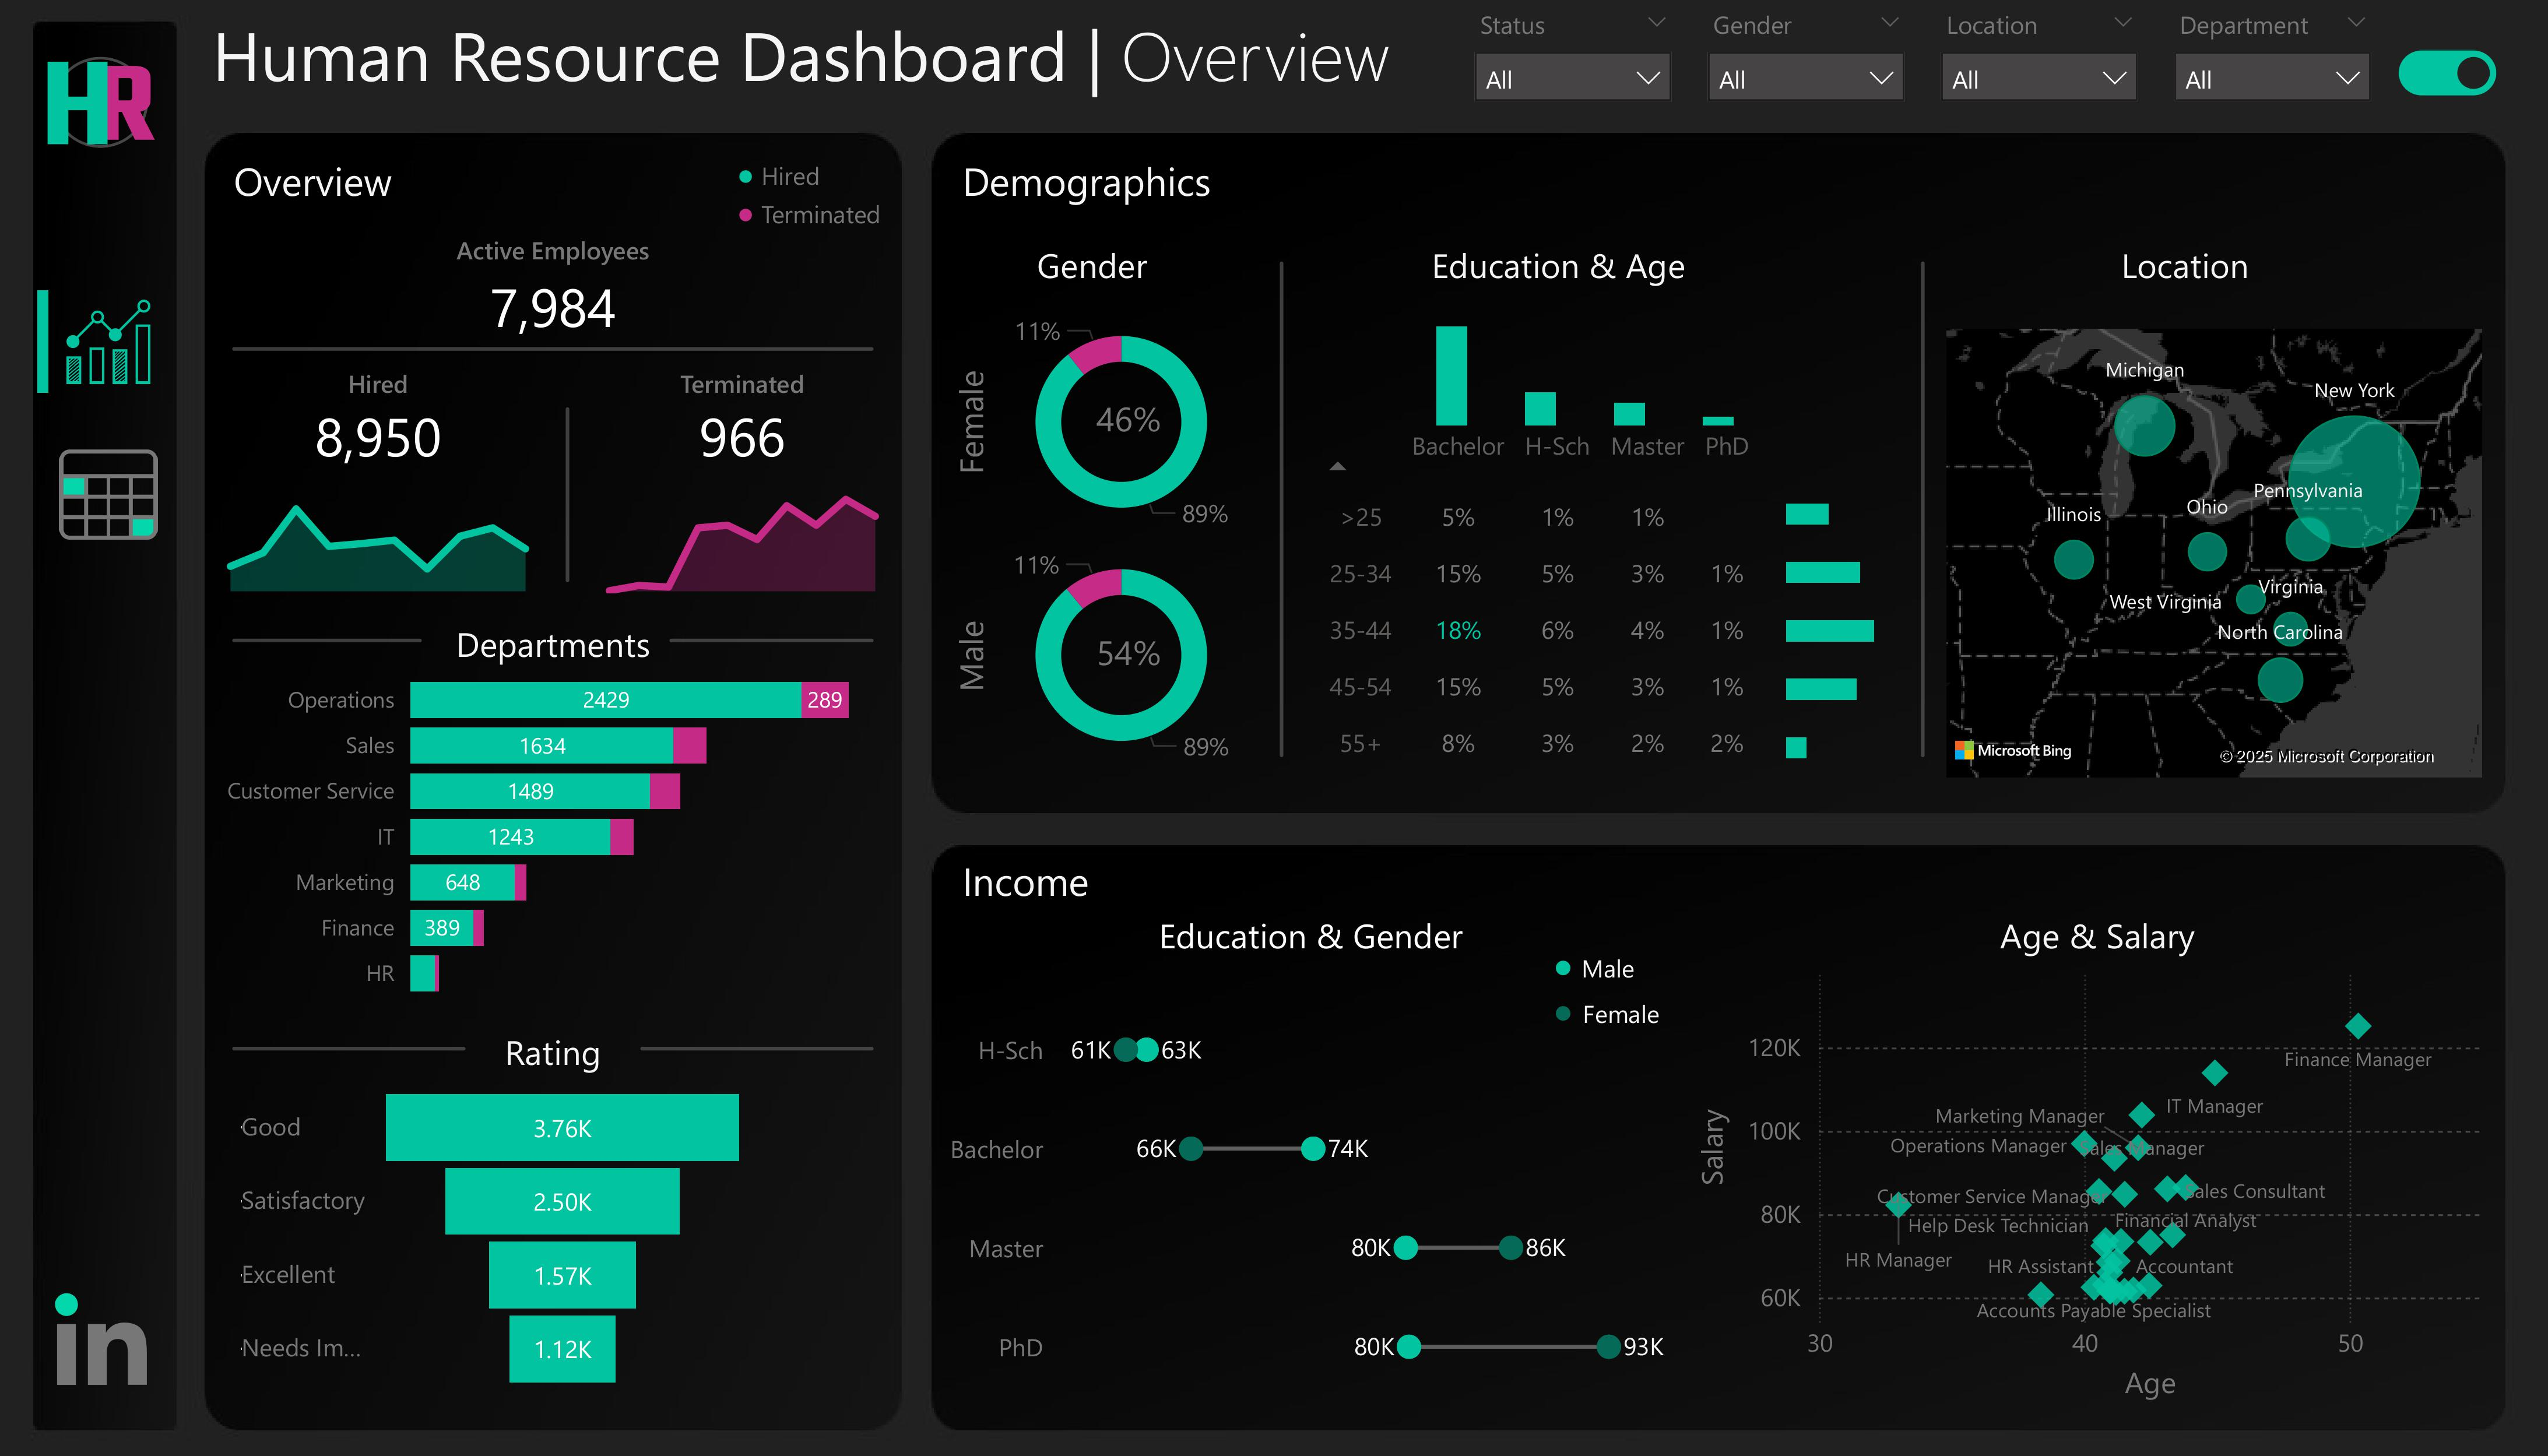

What the dashboard file says about the page in this screenshot:
{"tool":"powerbi","page":{"name":"Dashboard","canvas":[1400,800],"ordinal":0},"visuals":[{"type":"textbox","box":[112,0,752,64],"z":0,"group":"g1"},{"type":"image","title":"Filter Off","box":[1312,0,64,80],"z":0,"group":"g8"},{"type":"cardVisual","title":"Active","fields":{"Data":["Measure Table.Active Employees"]},"box":[144,112,320,80],"z":0,"group":"g3"},{"type":"shape","box":[688,144,32,272],"z":0,"group":"g2"},{"type":"columnChart","fields":{"Category":["HumanResources.Education Level"],"Y":["Measure Table.Hired"]},"box":[784,160,176,80],"z":0,"group":"g6"},{"type":"map","fields":{"Size":["Measure Table.Hired"],"Category":["HumanResources.State","HumanResources.City"]},"box":[1064,176,304,256],"z":0,"group":"g4"},{"type":"card","fields":{"Values":["Labels.Male percentage"]},"box":[568,320,104,80],"z":0,"group":"g5"},{"type":"shape","box":[16,160,16,56],"z":250,"group":"g7"},{"type":"image","title":"Dashboard active","box":[32,160,56,56],"z":500,"group":"g7"},{"type":"group","id":"g1","title":"Text","box":[112,0,1232,608],"z":1000},{"type":"textbox","box":[544,128,112,48],"z":1000,"group":"g1"},{"type":"shape","box":[128,160,352,64],"z":1000,"group":"g2"},{"type":"lineChart","title":"Hired","fields":{"Y":["Mesure Table.Hired"],"Category":["HumanResources.Hiredate.Variation.Date Hierarchy.Year"]},"box":[112,192,192,144],"z":1000,"group":"g3"},{"type":"card","fields":{"Values":["Labels.Female percentage"]},"box":[568,192,104,80],"z":1000,"group":"g5"},{"type":"clusteredBarChart","fields":{"Y":["Measure Table.Hired"],"Category":["HumanResources.Age Category"]},"box":[976,256,64,176],"z":1000,"group":"g6"},{"type":"textbox","box":[512,80,208,48],"z":2000,"group":"g1"},{"type":"group","id":"g2","title":"Dividers","box":[128,144,944,448],"z":2000},{"type":"donutChart","fields":{"Category":["HumanResources.Status"],"Y":["Measure Table.Hired male"]},"box":[528,160,176,144],"z":2000,"group":"g5"},{"type":"lineChart","title":"Terminated","fields":{"Y":["Measure Table.Terminated"],"Category":["HumanResources.Termdate.Variation.Date Hierarchy.Year"]},"box":[320,192,176,144],"z":2000,"group":"g3"},{"type":"shape","box":[272,224,80,96],"z":2000,"group":"g2"},{"type":"pivotTable","fields":{"Rows":["HumanResources.Age Category"],"Columns":["HumanResources.Education Level"],"Values":["Measure Table.Circle Unicode"]},"box":[720,224,256,224],"z":2000,"group":"g6"},{"type":"textbox","title":"Filters Text","box":[1216,16,96,48],"z":3000,"group":"g8"},{"type":"textbox","box":[112,80,144,48],"z":3000,"group":"g1"},{"type":"group","id":"g3","title":"KPIS","box":[112,112,384,224],"z":3000},{"type":"shape","box":[1040,144,32,272],"z":3000,"group":"g2"},{"type":"donutChart","fields":{"Y":["Measure Table.Hired female"],"Category":["HumanResources.Status"]},"box":[528,288,176,144],"z":3000,"group":"g5"},{"type":"group","id":"g4","title":"Map","box":[1064,160,336,288],"z":4000},{"type":"shape","box":[128,336,104,32],"z":4000,"group":"g2"},{"type":"textbox","box":[512,464,144,48],"z":4000,"group":"g1"},{"type":"group","id":"g5","title":"Donuts","box":[528,160,176,272],"z":5000},{"type":"shape","box":[368,336,112,32],"z":5000,"group":"g2"},{"type":"textbox","box":[240,560,128,48],"z":5000,"group":"g1"},{"type":"textbox","box":[768,128,176,48],"z":6000,"group":"g1"},{"type":"group","id":"g6","title":"Matrix","box":[720,160,320,288],"z":6000},{"type":"shape","box":[128,560,128,32],"z":6000,"group":"g2"},{"type":"textbox","box":[1056,128,288,48],"z":7000,"group":"g1"},{"type":"group","id":"g7","title":"Dashboard Icons","box":[16,160,72,56],"z":7000},{"type":"shape","box":[352,560,128,32],"z":7000,"group":"g2"},{"type":"group","id":"g8","title":"HR_FIlters","box":[800,0,576,80],"z":8000},{"type":"textbox","box":[208,336,192,48],"z":8000,"group":"g1"},{"type":"textbox","title":"Overview","box":[400,80,160,64],"z":9000,"group":"g1"},{"type":"barChart","title":"Dept bar","fields":{"Category":["HumanResources.Department","HumanResources.Job Title"],"Y":["Measure Table.Hired"],"Series":["HumanResources.Status"]},"box":[112,352,384,208],"z":9000},{"type":"scatterChart","title":"Age & Salary","fields":{"Category":["HumanResources.Job Title"],"X":["Measure Table.AVG age"],"Y":["Measure Table.AVG Salary"]},"box":[928,496,448,288],"z":10000},{"type":"textbox","title":"Gender text","box":[848,512,96,64],"z":11000},{"type":"funnel","fields":{"Category":["HumanResources.Performance Rating"],"Y":["Measure Table.Hired"]},"box":[128,592,288,176],"z":12000},{"type":"image","title":"LOGO","box":[16,16,80,80],"z":13000},{"type":"image","title":"Records LOGO","box":[16,240,88,64],"z":14000},{"type":"image","title":"LinkedIN","box":[16,704,80,64],"z":15000},{"type":"image","box":[512,288,48,144],"z":16000},{"type":"image","box":[432,160,208,144],"z":17000},{"type":"clusteredBarChart","title":"Education & Gender","fields":{"Category":["HumanResources.Education Level"],"Y":["Dummies.avg Salary dumbell Bar","Test Table.Salary left Male","Test Table.Salary Right Male","Test Table.Salary left Female","Test Table.Salary Right Female"]},"box":[512,496,416,288],"z":18000}]}

Visuals, with their boxes in screenshot pixels (x1, y1, x2, y2), scaled from the page's 1400x800 canvas onto the 2548x1456 screenshot:
textbox: 204,0,1573,117
"Filter Off" image: 2388,0,2504,146
"Active" cardVisual: 262,204,845,350
shape: 1252,262,1310,757
columnChart - HumanResources.Education Level x Measure Table.Hired: 1427,291,1747,437
map - Measure Table.Hired x HumanResources.State: 1937,321,2490,786
card - Labels.Male percentage: 1034,582,1223,728
shape: 29,291,58,393
"Dashboard active" image: 58,291,160,393
"Text" group: 204,0,2446,1106
textbox: 990,233,1194,321
shape: 233,291,874,407
"Hired" lineChart: 204,350,553,611
card - Labels.Female percentage: 1034,350,1223,495
clusteredBarChart - Measure Table.Hired x HumanResources.Age Category: 1776,466,1893,786
textbox: 932,146,1310,233
"Dividers" group: 233,262,1951,1078
donutChart - HumanResources.Status x Measure Table.Hired male: 961,291,1281,553
"Terminated" lineChart: 582,350,903,611
shape: 495,407,641,582
pivotTable - HumanResources.Age Category x HumanResources.Education Level: 1310,407,1776,815
"Filters Text" textbox: 2213,29,2388,117
textbox: 204,146,466,233
"KPIS" group: 204,204,903,611
shape: 1893,262,1951,757
donutChart - Measure Table.Hired female x HumanResources.Status: 961,524,1281,786
"Map" group: 1937,291,2547,815
shape: 233,611,422,670
textbox: 932,845,1194,932
"Donuts" group: 961,291,1281,786
shape: 670,611,874,670
textbox: 437,1019,670,1106
textbox: 1398,233,1718,321
"Matrix" group: 1310,291,1893,815
shape: 233,1019,466,1078
textbox: 1922,233,2446,321
"Dashboard Icons" group: 29,291,160,393
shape: 641,1019,874,1078
"HR_FIlters" group: 1456,0,2504,146
textbox: 378,611,728,699
"Overview" textbox: 728,146,1019,262
"Dept bar" barChart: 204,641,903,1019
"Age & Salary" scatterChart: 1689,903,2504,1427
"Gender text" textbox: 1544,932,1718,1049
funnel - HumanResources.Performance Rating x Measure Table.Hired: 233,1078,757,1398
"LOGO" image: 29,29,175,175
"Records LOGO" image: 29,437,189,553
"LinkedIN" image: 29,1281,175,1398
image: 932,524,1019,786
image: 786,291,1165,553
"Education & Gender" clusteredBarChart: 932,903,1689,1427
